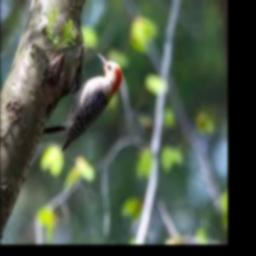Woodpecker: (42, 51, 121, 151)
